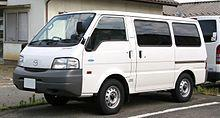Van: (11, 10, 207, 107)
